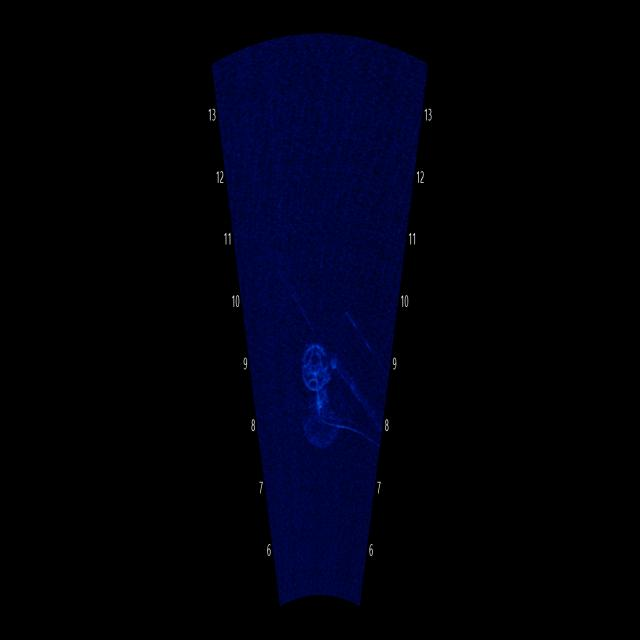circle: (285, 323, 346, 398)
